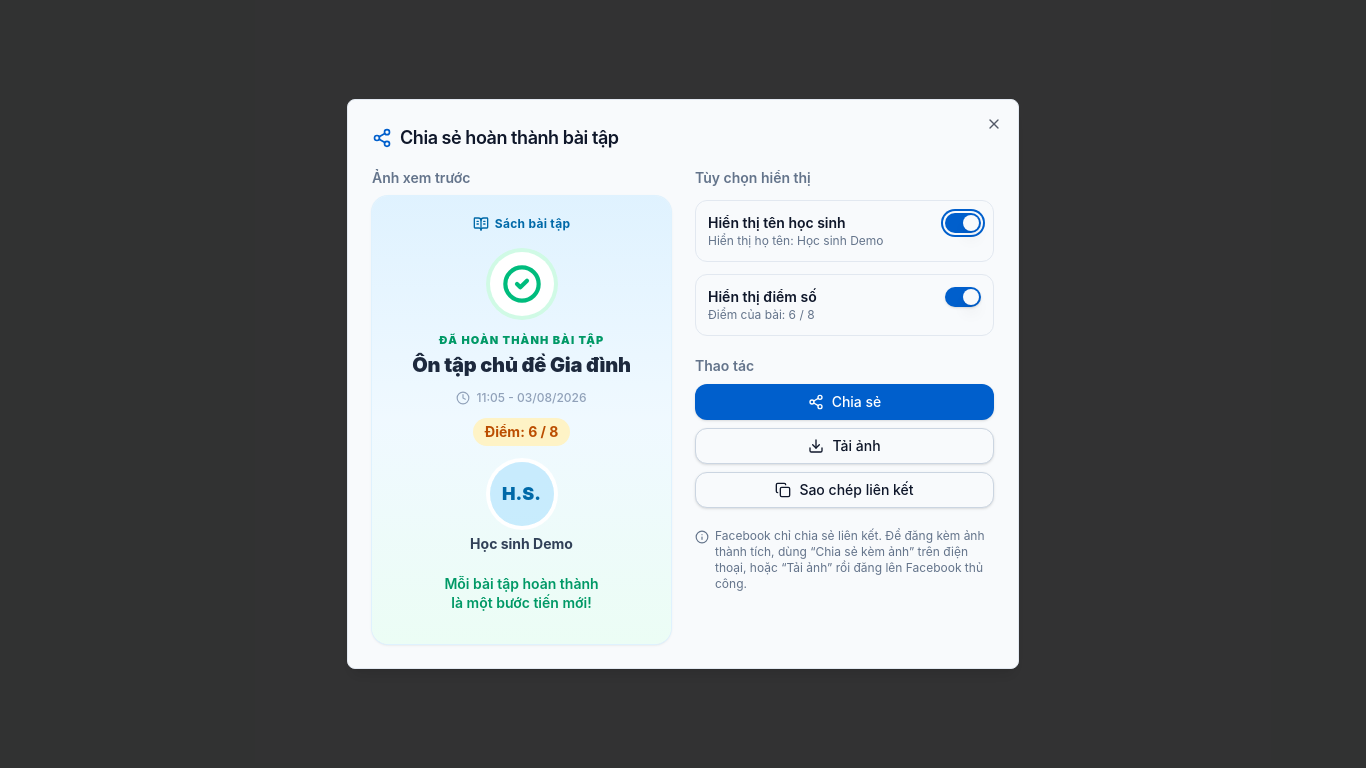
Test: ShareCompletionDialog › copy thất bại (môi trường chặn clipboard): lộ input chép tay đúng liên kết
What coordinates should you click on to do the following:
click the button "Sao chép liên kết"
I would click on:
 (844, 490)
Its box is [695,472,994,508].
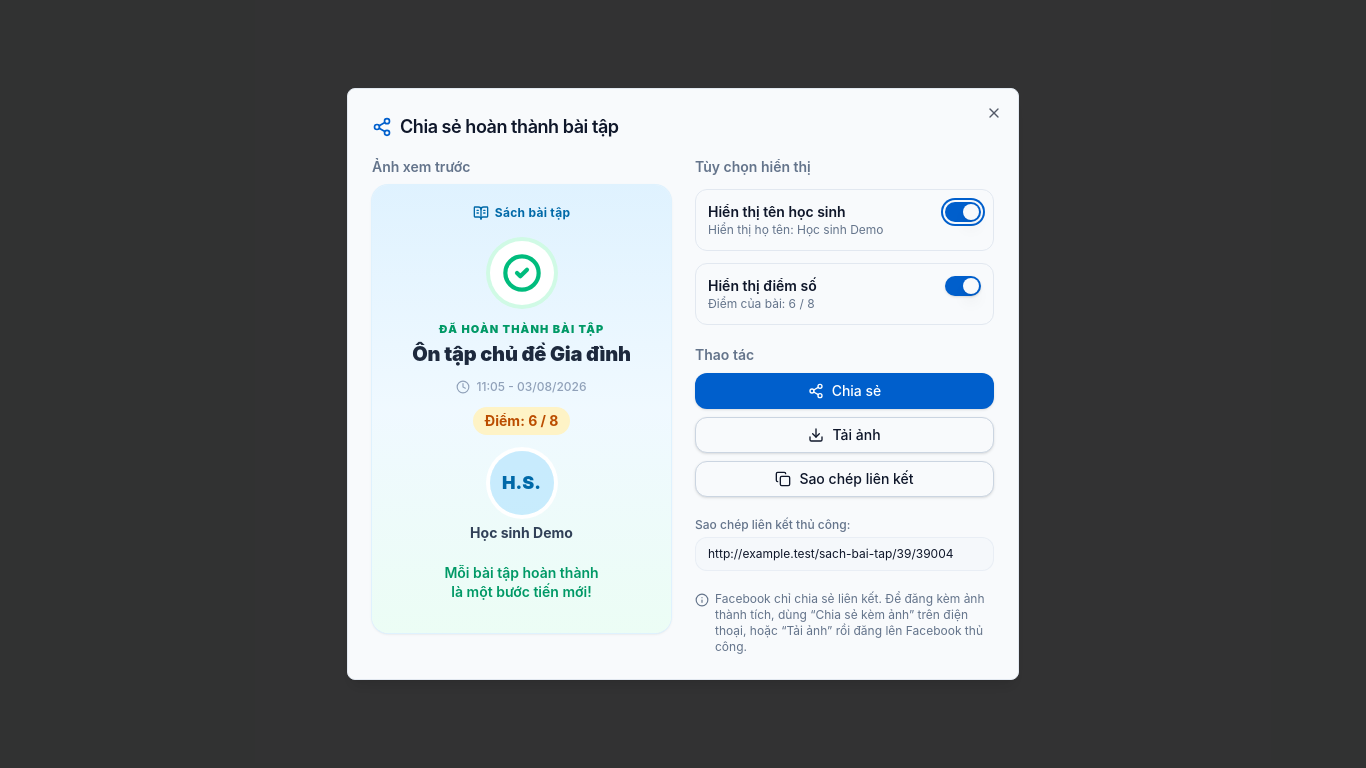
Check: the field named "Liên kết chia sẻ" holds "http://example.test/sach-bai-tap/39/39004", box [695,537,994,571]
